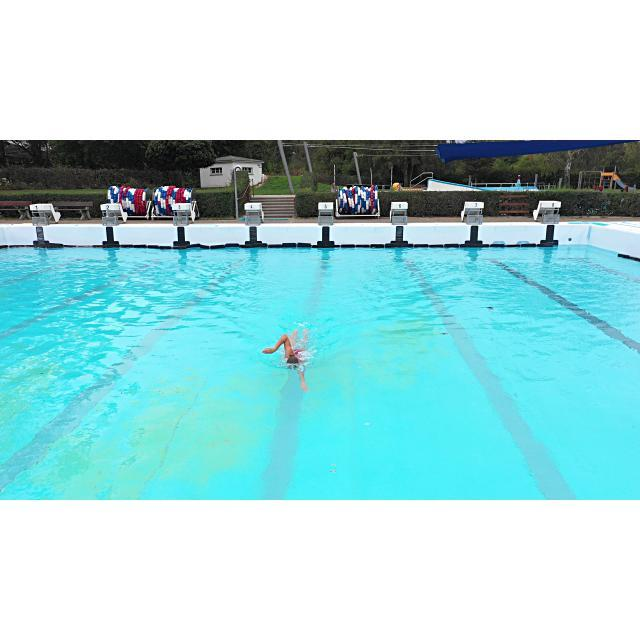human: (265, 327, 311, 396)
